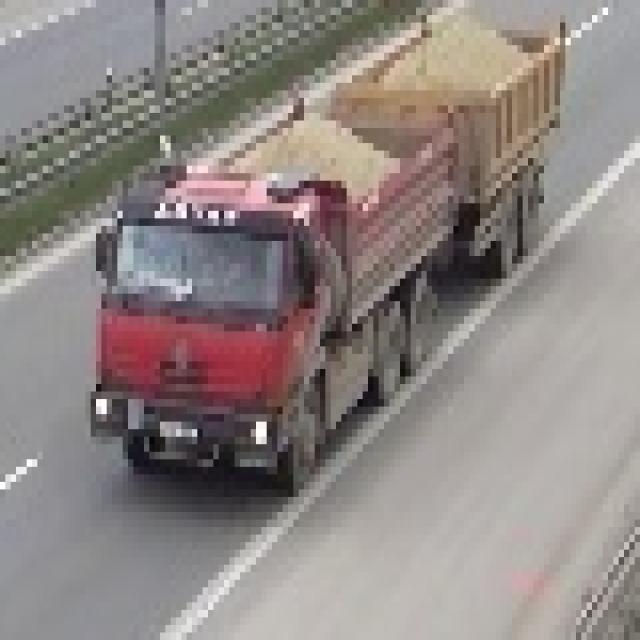truck: (90, 0, 560, 489)
